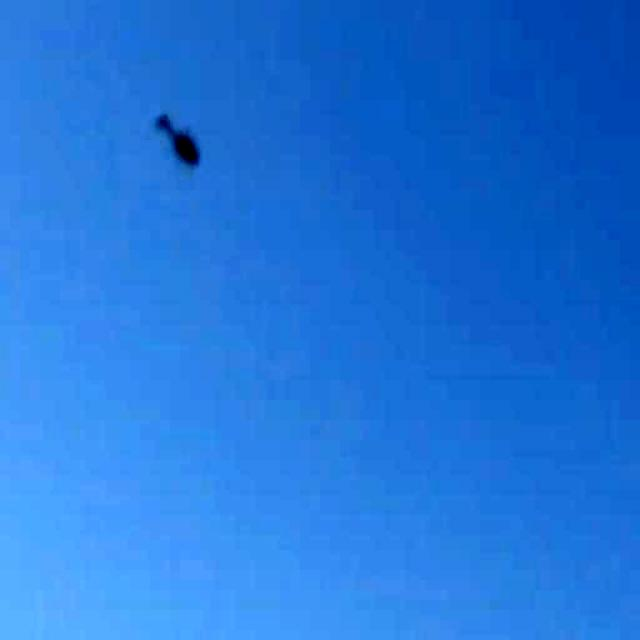drone: (149, 101, 215, 199)
